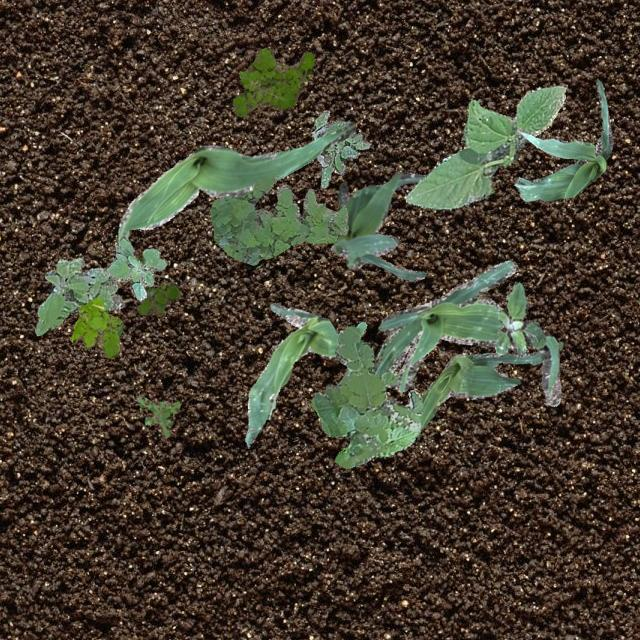crop: (370, 260, 560, 406), (118, 122, 354, 238), (404, 84, 566, 208), (244, 302, 366, 448), (416, 340, 564, 430), (514, 78, 612, 200), (330, 172, 428, 280)
weed: (310, 324, 422, 468), (210, 174, 348, 264), (34, 256, 124, 334), (232, 46, 312, 115), (310, 110, 370, 187), (106, 237, 166, 300), (494, 280, 544, 354), (70, 296, 122, 356), (134, 253, 178, 316), (136, 394, 180, 436)
